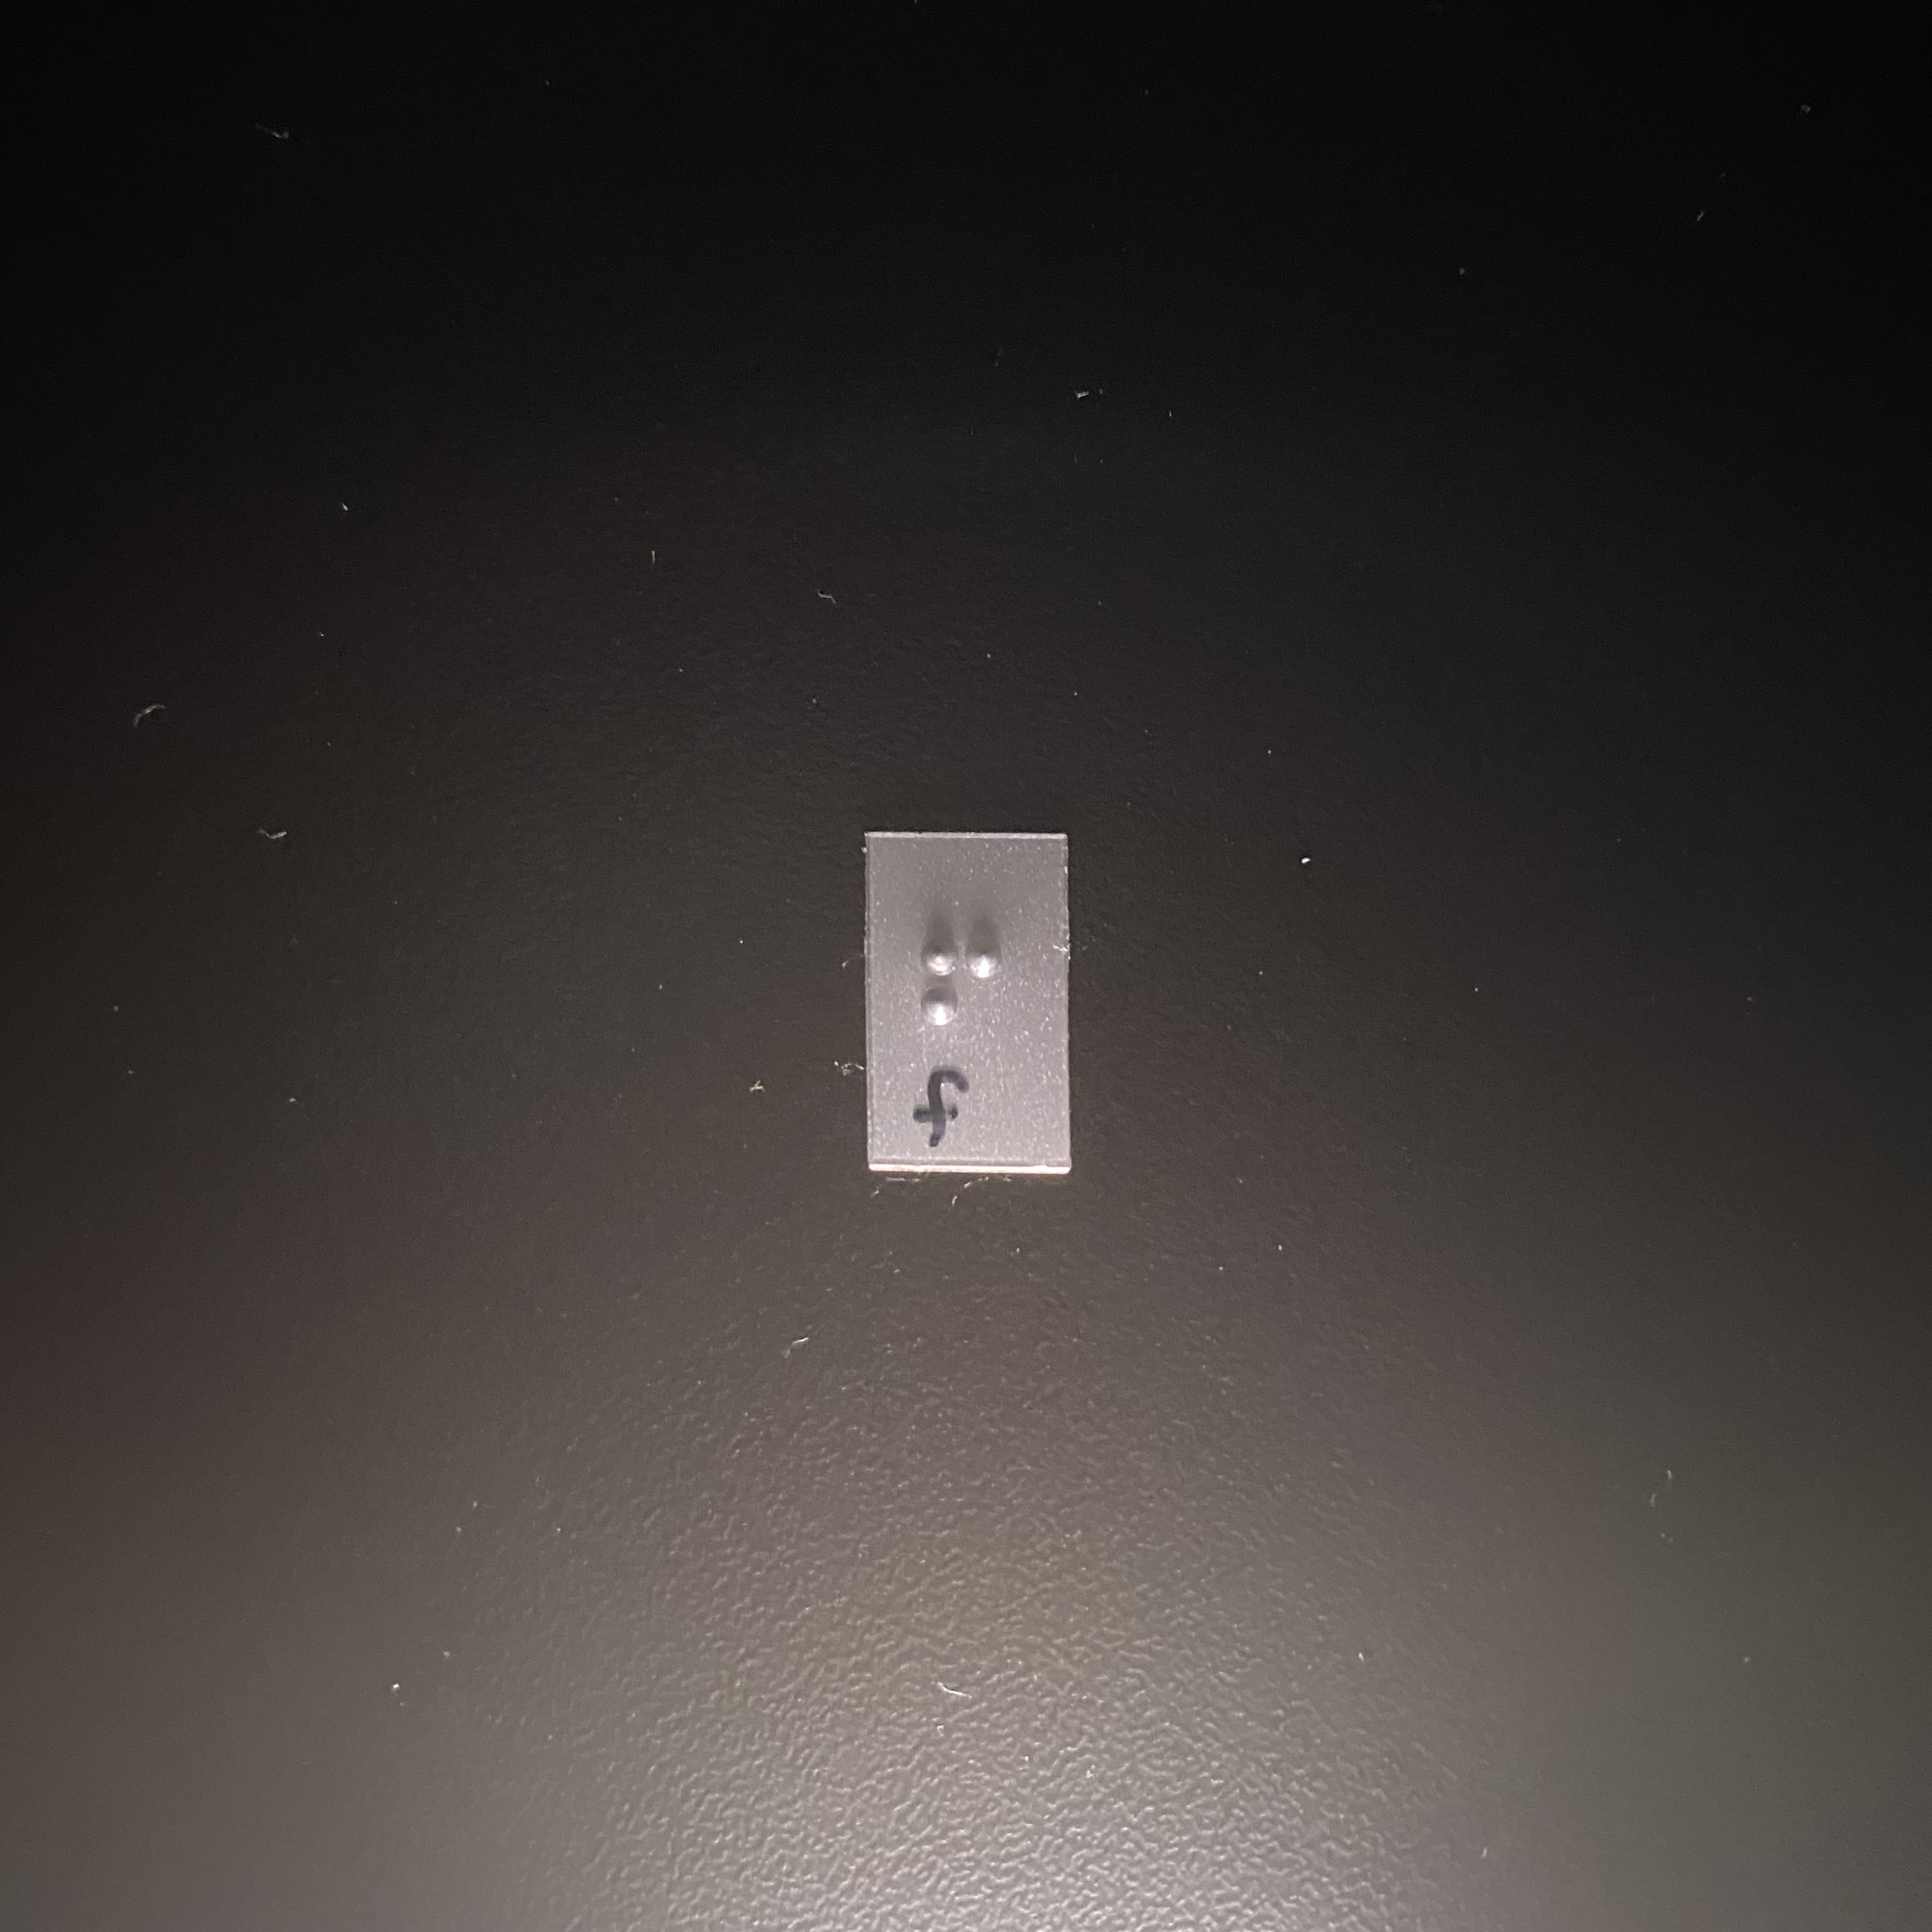f: (908, 914, 1014, 1108)
